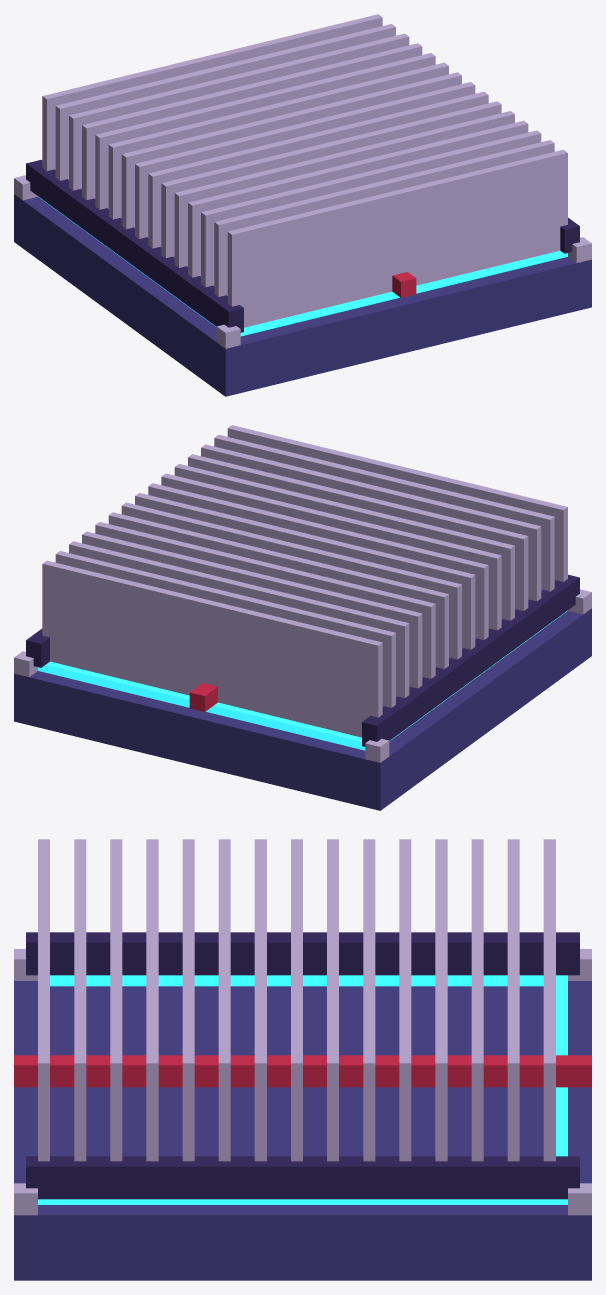
File: radiator.lg.glb
3 renders of one model, top to bottom at view 1: azimuth 30°, elevation 25°; view 2: azimuth 150°, elevation 25°; view 3: azimuth 270°, elevation 25°, orthographic. The views are drawn at different scales.
Visible parts, largest first — view 1: radiator.lg; view 2: radiator.lg; view 3: radiator.lg.
Part boxes in pixels (x1,y1,x2,y2): radiator.lg: (14,14,591,396); radiator.lg: (14,425,591,810); radiator.lg: (14,839,591,1280).
Size of the model in its own units: 3 by 1.19 by 3.
